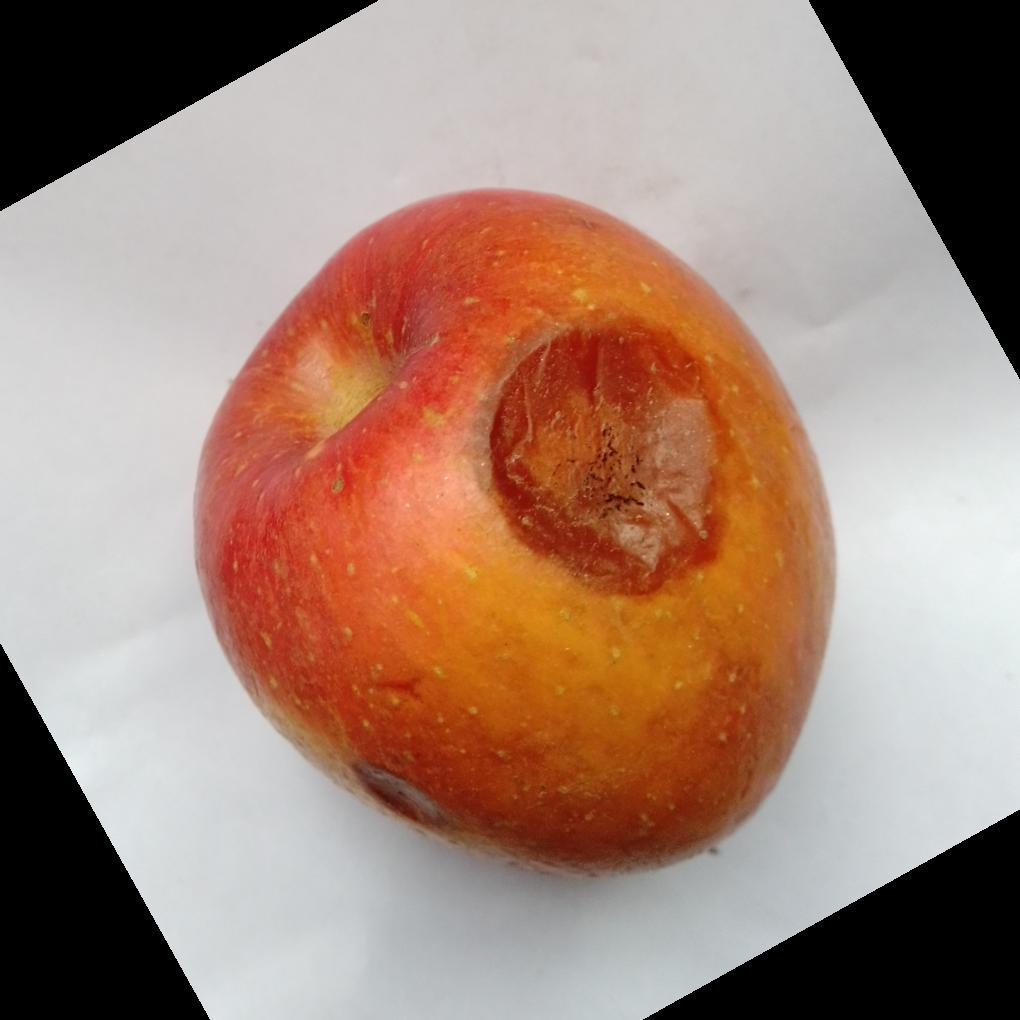FreshOrange: (191, 189, 838, 881)
